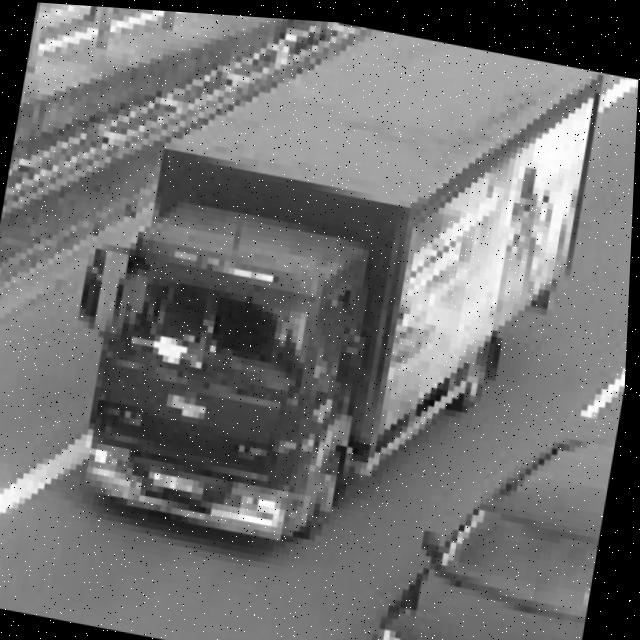truck: (55, 150, 421, 571)
